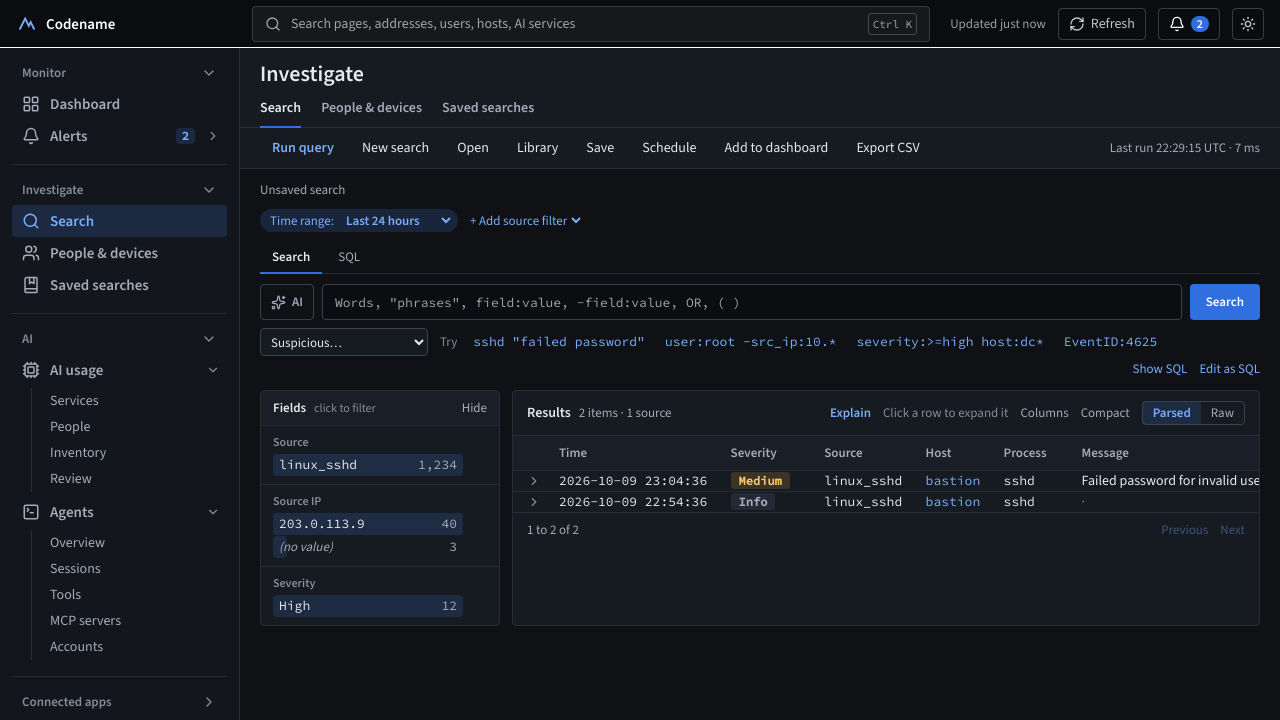
Scenario: Simple search › opens Investigations on a host from an expanded event
The image size is (1280, 720).
Click the text "Failed password for invalid user oracle": x=896, y=482 [513,471,1279,492]
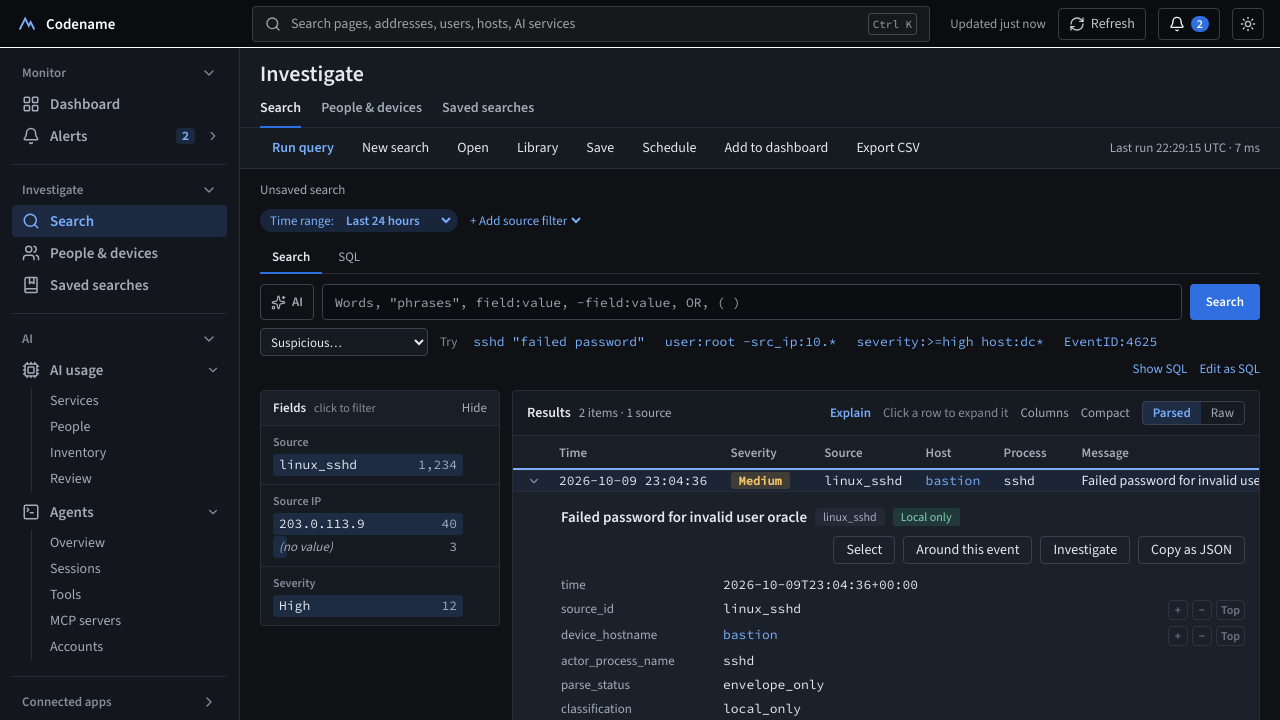
Click the link "bastion" next to "device_hostname": x=750, y=634 [723,626,778,643]
(page scrolled)
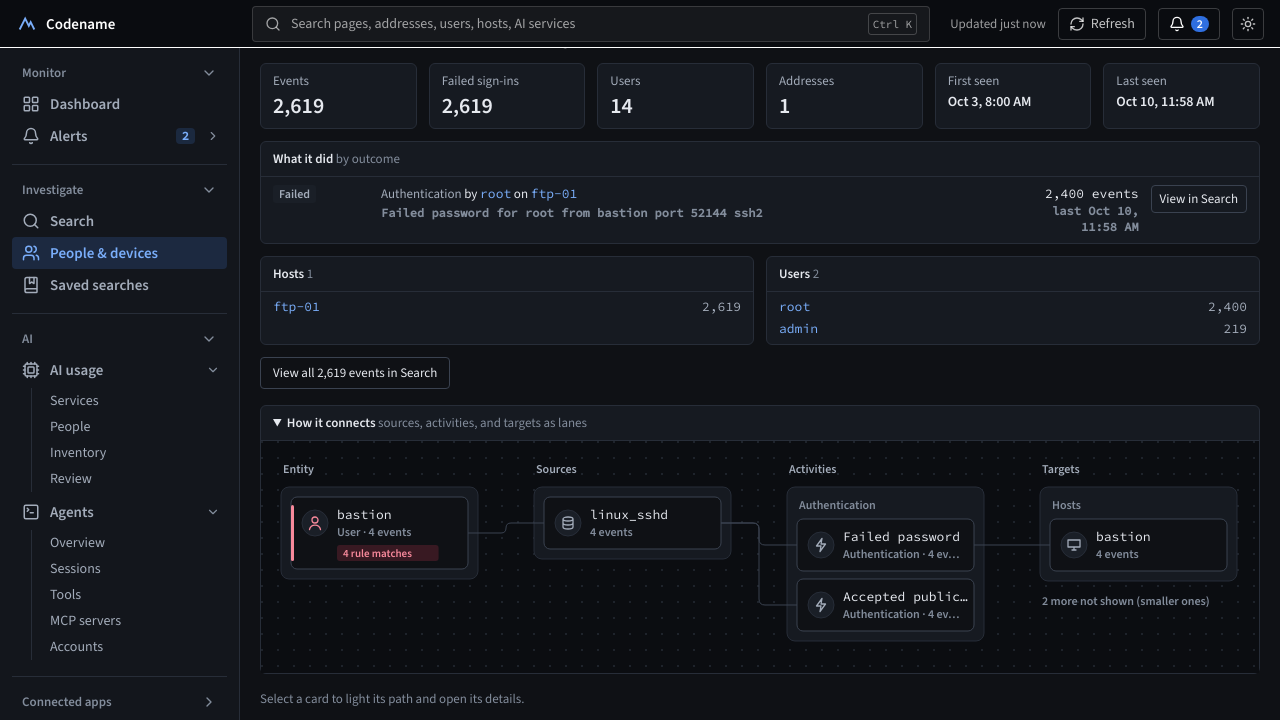
Expected: the icon named "Investigation lanes" is shown, [261,441,1257,673]
